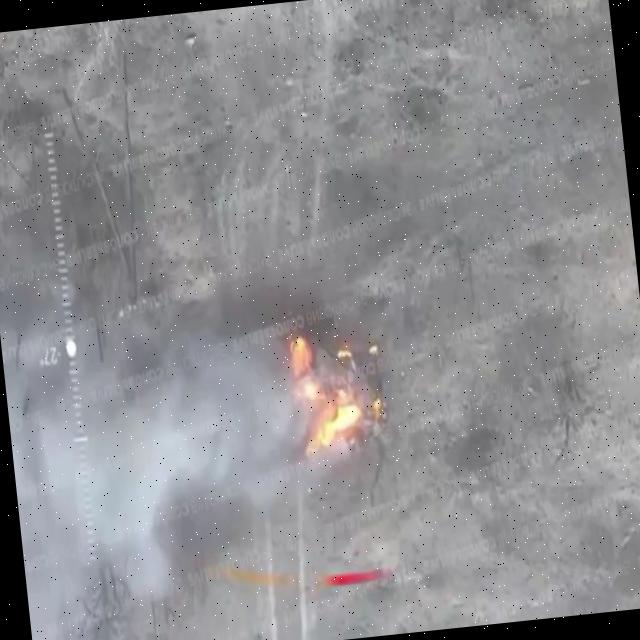Destroyed: (267, 317, 388, 466)
